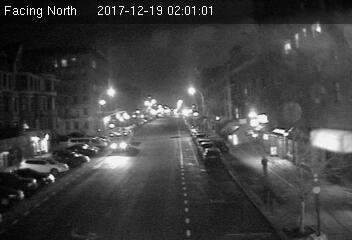pedestrian: (258, 151, 272, 178)
